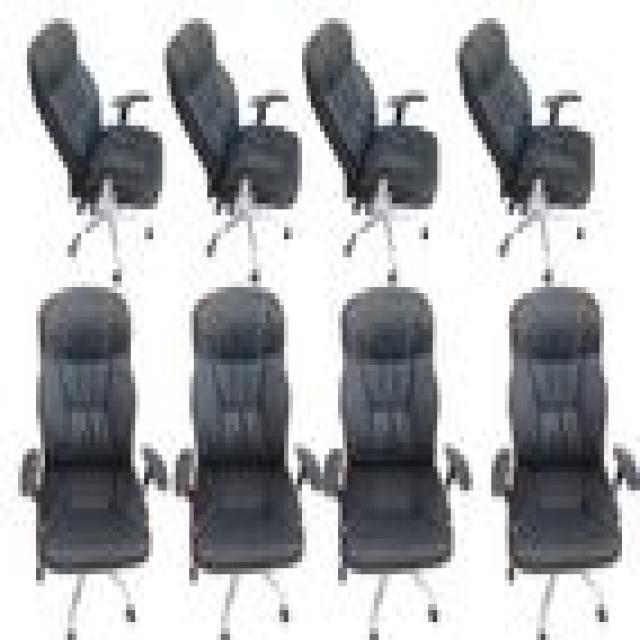others: (14, 12, 626, 640)
